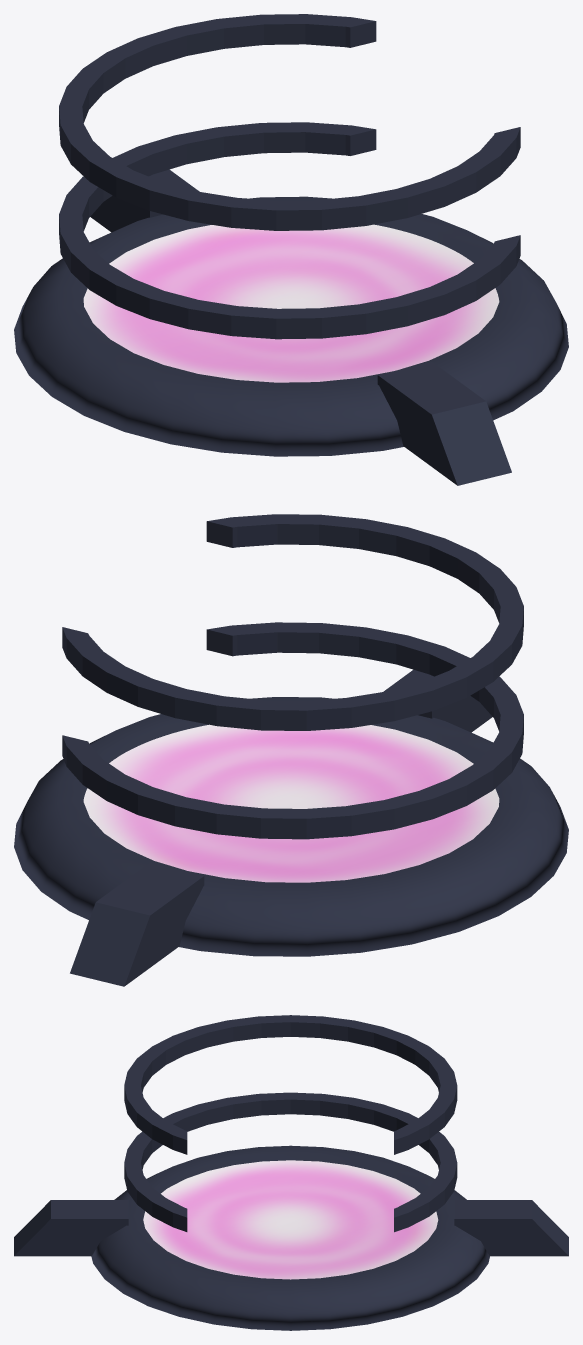
Rendered from Teleporter.fbx.
3 renders of one model, top to bottom at view 1: azimuth 30°, elevation 25°; view 2: azimuth 150°, elevation 25°; view 3: azimuth 270°, elevation 25°, orthographic. The views are drawn at different scales.
Parts seen in each view (by area): view 1: Cylinder, Cylinder.002, Cylinder.001, Cube, Cube.002; view 2: Cylinder, Cylinder.002, Cylinder.001, Cube.002, Cube; view 3: Cylinder, Cylinder.002, Cylinder.001, Cube.002, Cube.
Boxes of the visible parts, bbox=[...] form: Cylinder: bbox=[14, 196, 568, 456]; Cylinder.002: bbox=[59, 14, 520, 230]; Cylinder.001: bbox=[59, 122, 520, 339]; Cube: bbox=[377, 362, 511, 485]; Cube.002: bbox=[90, 169, 199, 232]; Cylinder: bbox=[14, 697, 568, 956]; Cylinder.002: bbox=[62, 514, 523, 730]; Cylinder.001: bbox=[62, 622, 523, 839]; Cube.002: bbox=[70, 862, 204, 986]; Cube: bbox=[383, 669, 492, 732]; Cylinder: bbox=[91, 1145, 489, 1330]; Cylinder.002: bbox=[124, 1015, 457, 1154]; Cylinder.001: bbox=[124, 1092, 457, 1232]; Cube.002: bbox=[454, 1200, 568, 1256]; Cube: bbox=[14, 1200, 128, 1256].
Size of the model in its own units: 238 by 107 by 333.
